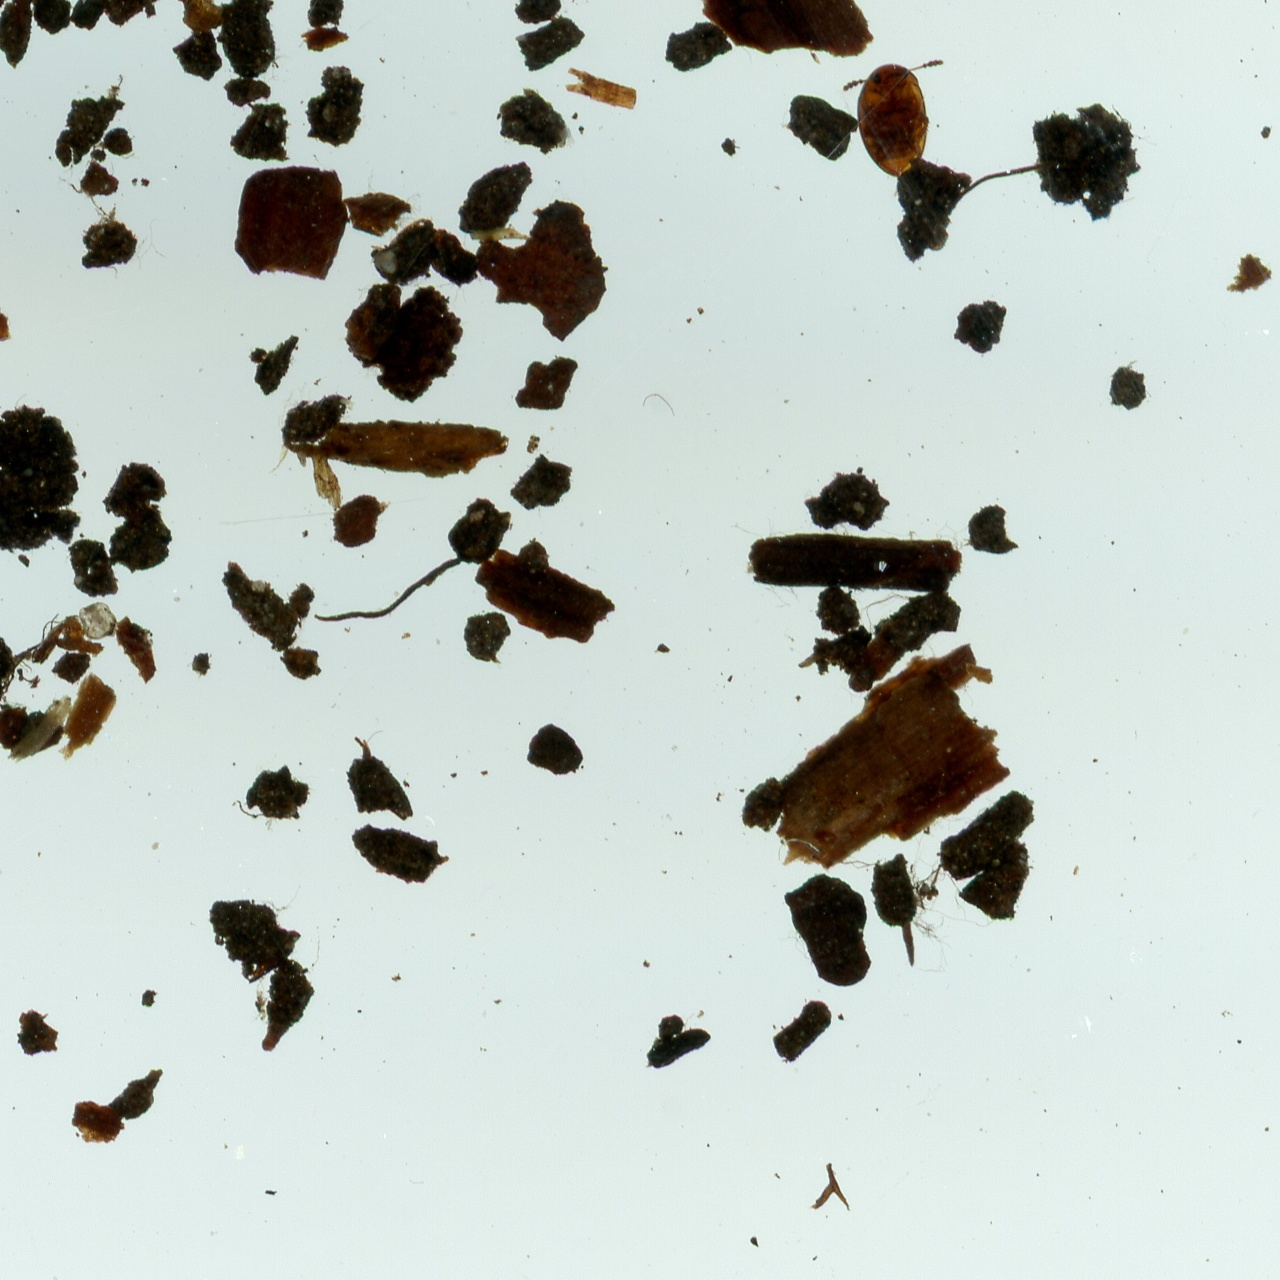arthropod: (840, 57, 953, 181)
